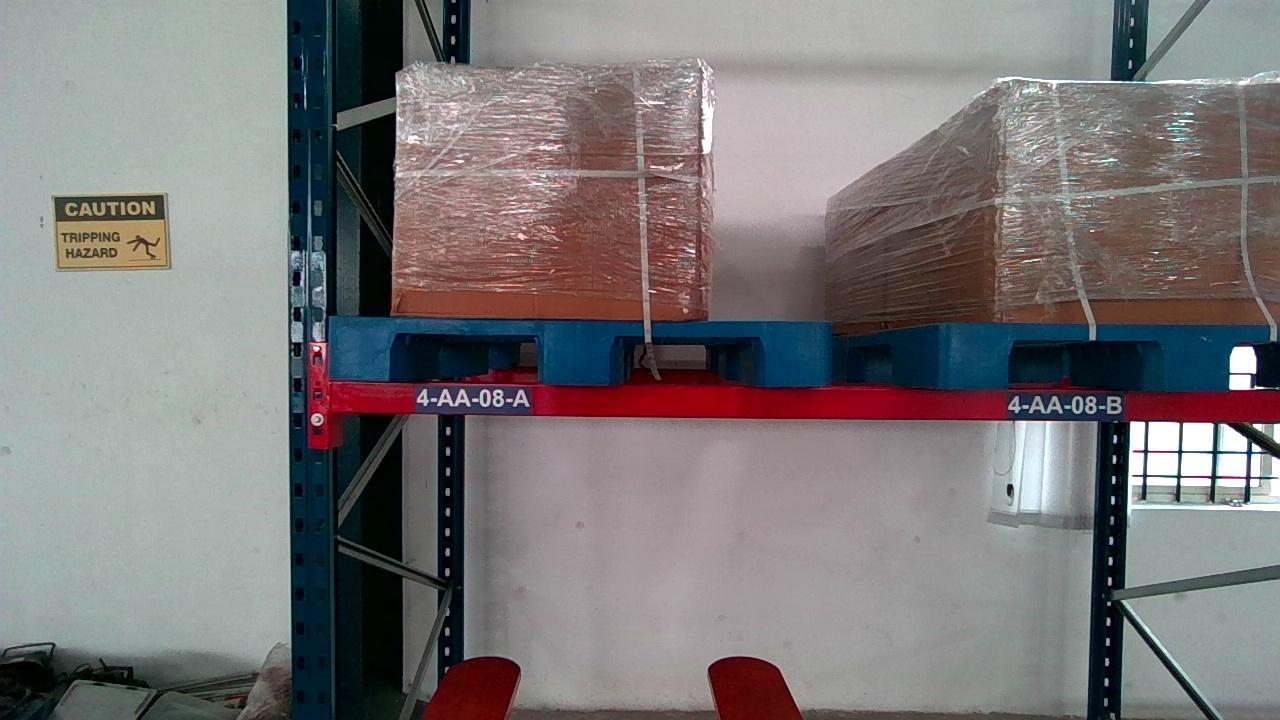h_rack: (323, 380, 1280, 426)
small_pallet: (329, 319, 834, 385), (942, 321, 1280, 384)
